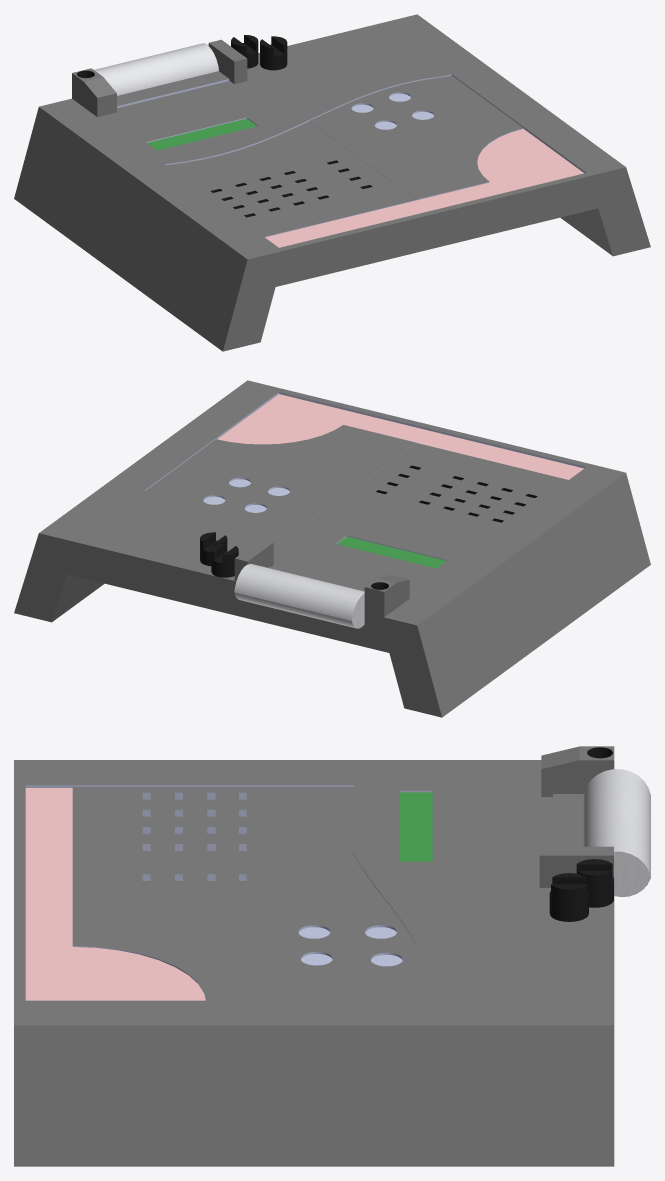
3 views of the same model, one above another, from view 1: azimuth 30°, elevation 25°; view 2: azimuth 150°, elevation 25°; view 3: azimuth 270°, elevation 25° (orthographic). The views are drawn at different scales.
Visible parts, largest first — view 1: light grey low gloss plastic, light grey soft touch plastic, color-2 : bUTTON%20pAD - 1 : Body-0 Face-26, cotton white 2d, color, black medium gloss plastic, green medium gloss plastic, black low gloss plastic; view 2: light grey low gloss plastic, light grey soft touch plastic, color-2 : bUTTON%20pAD - 1 : Body-0 Face-26, cotton white 2d, color, black medium gloss plastic, green medium gloss plastic, black low gloss plastic; view 3: light grey low gloss plastic, light grey soft touch plastic, color-2 : bUTTON%20pAD - 1 : Body-0 Face-26, cotton white 2d, color, black medium gloss plastic, green medium gloss plastic.
Boxes of the visible parts, x1,y1,x2,y2 form: light grey low gloss plastic: [14, 14, 650, 351]; light grey soft touch plastic: [166, 75, 522, 236]; color-2 : bUTTON%20pAD - 1 : Body-0 Face-26: [265, 129, 583, 247]; cotton white 2d: [94, 43, 218, 95]; color: [117, 74, 586, 237]; black medium gloss plastic: [231, 35, 287, 70]; green medium gloss plastic: [147, 118, 256, 150]; black low gloss plastic: [77, 70, 372, 217]; light grey low gloss plastic: [14, 380, 650, 717]; light grey soft touch plastic: [146, 425, 568, 550]; color-2 : bUTTON%20pAD - 1 : Body-0 Face-26: [217, 394, 583, 479]; cotton white 2d: [234, 564, 364, 628]; color: [144, 392, 585, 560]; black medium gloss plastic: [200, 532, 238, 577]; green medium gloss plastic: [337, 536, 446, 568]; black low gloss plastic: [371, 465, 537, 589]; light grey low gloss plastic: [14, 746, 614, 1166]; light grey soft touch plastic: [72, 787, 421, 1000]; color-2 : bUTTON%20pAD - 1 : Body-0 Face-26: [25, 788, 205, 1000]; cotton white 2d: [583, 769, 650, 897]; color: [25, 785, 614, 1000]; black medium gloss plastic: [549, 859, 613, 921]; green medium gloss plastic: [399, 792, 432, 861].
Size of the model in its own units: 43.8 by 10.91 by 39.27.
8 materials, 1 textured.
